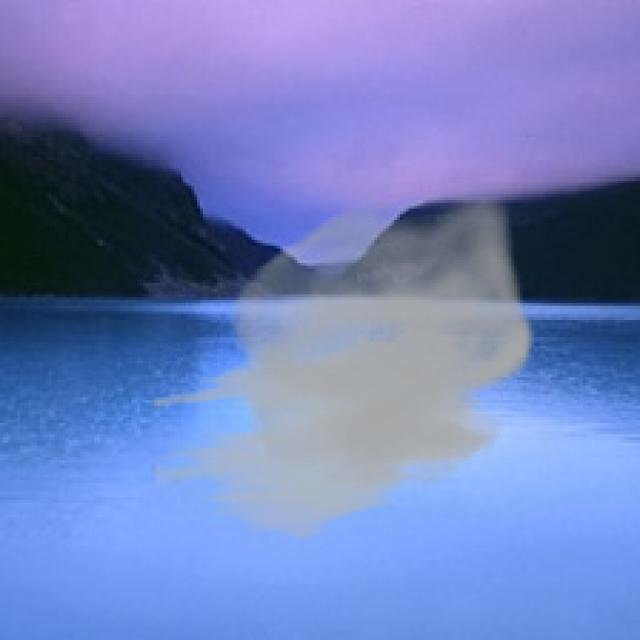smoke: (152, 194, 534, 543)
